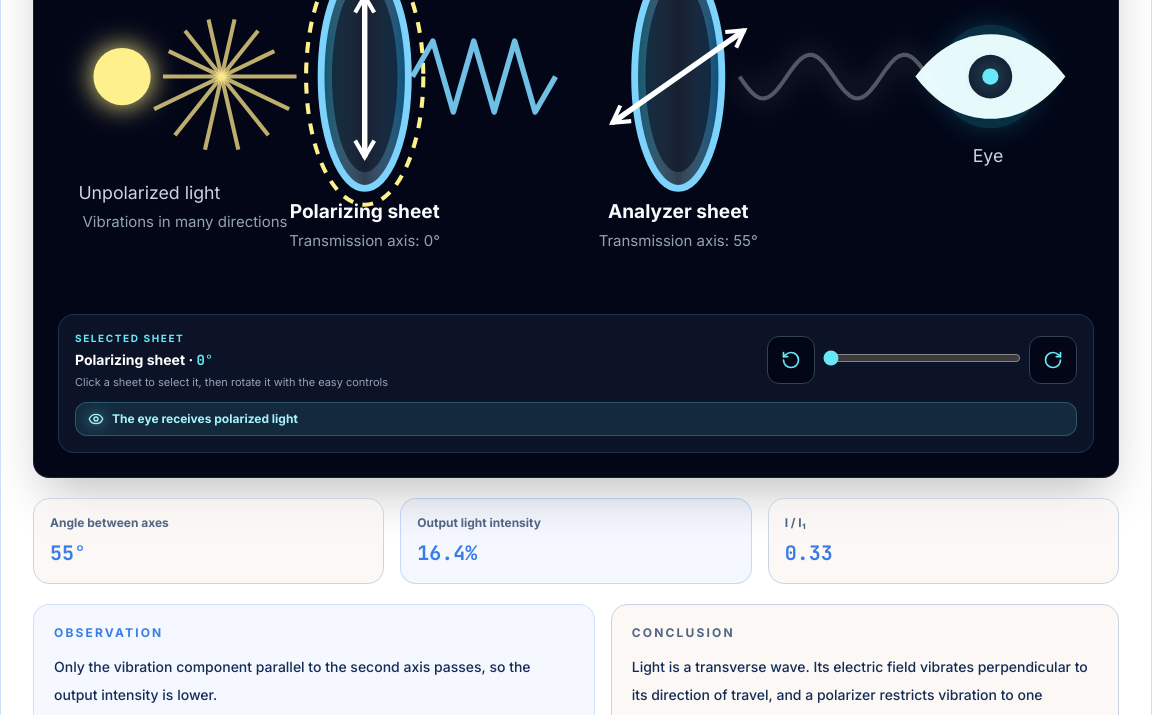
Test: LightWavePolarizationActivity › selects a sheet and rotates it with the easy controls
This screenshot has width=1152, height=715.
Earlier steps of the test are not shown.
(page scrolled)
Expected: the text "Polarizing sheet · 0°" is shown, [75, 351, 213, 369]
Click the button named "Increase angle by 15 degrees" at (1053, 360), box [1029, 336, 1077, 384]
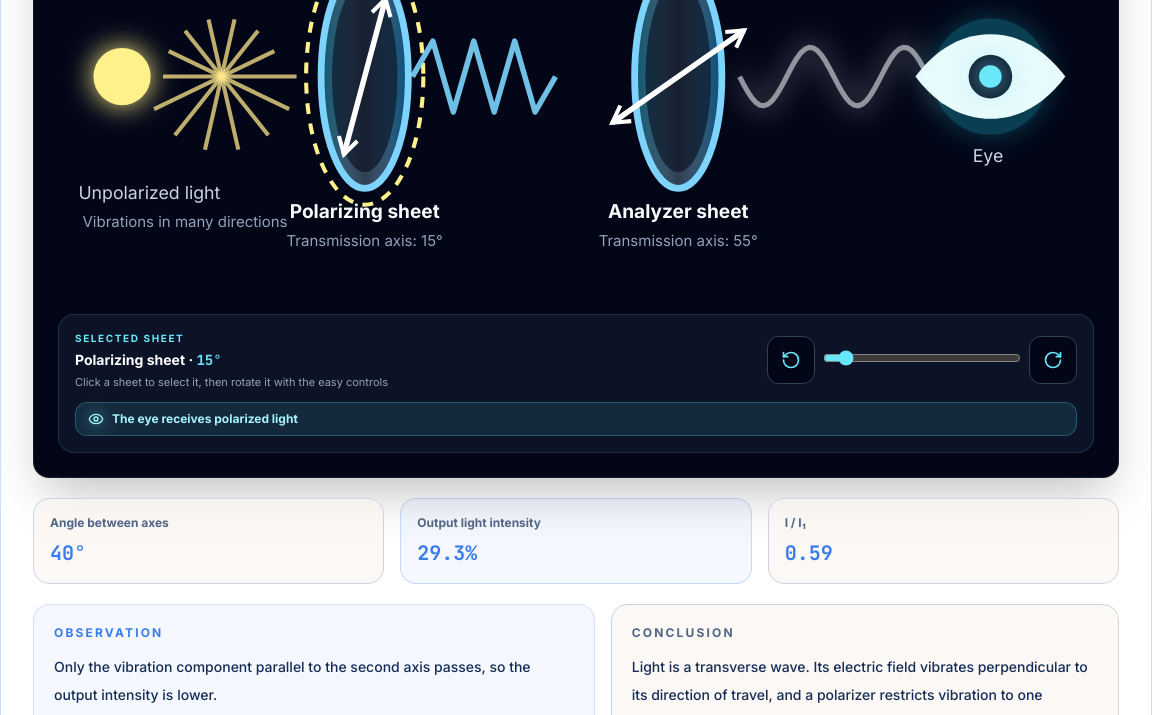
Expected: the text "Polarizing sheet · 15°" is shown, [75, 351, 222, 369]
